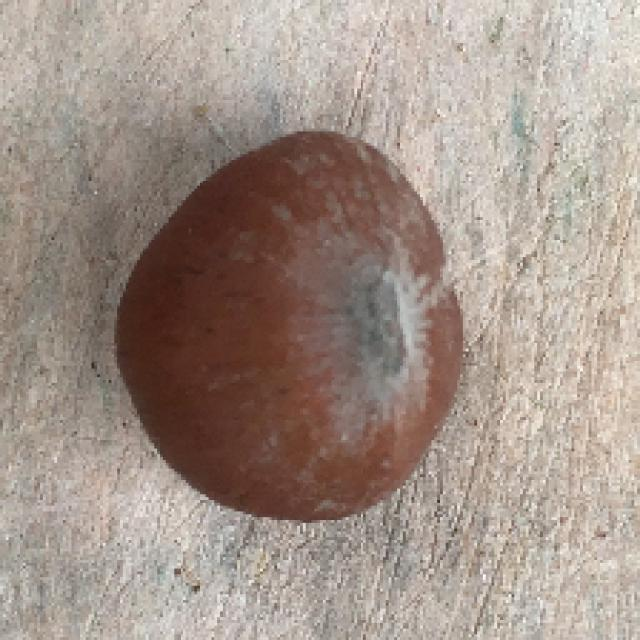qualityHazelnut: (114, 125, 466, 519)
